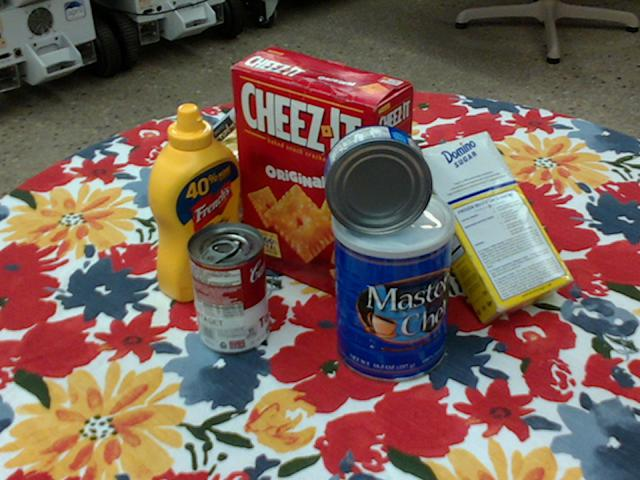cracker_box: (232, 47, 415, 306)
gelatin_box: (251, 136, 332, 206)
large_marker: (193, 93, 262, 155)
master_chef_can: (331, 188, 453, 385)
mug: (391, 144, 479, 247)
mustard_bottle: (147, 105, 245, 302)
potted_meat_can: (175, 137, 266, 246)
sugar_box: (400, 132, 574, 327)
tomato_soup_can: (186, 222, 268, 354)
tuna_fish_can: (325, 125, 434, 237)
